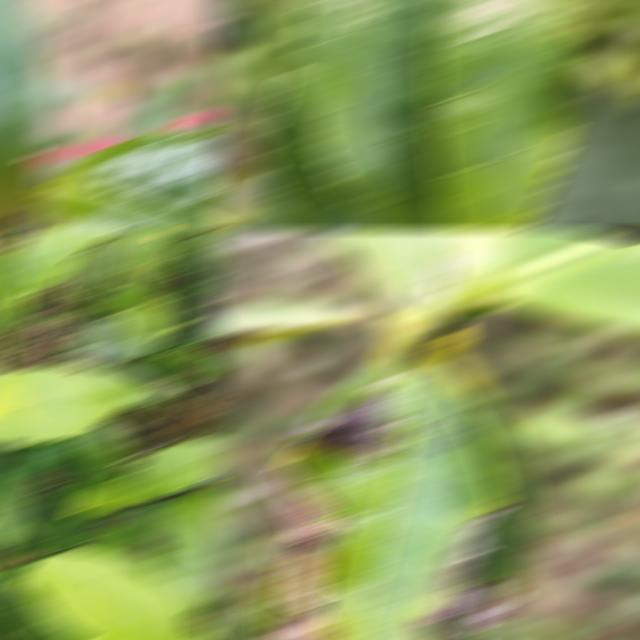Leaf: (275, 357, 507, 638), (294, 2, 578, 228), (258, 72, 385, 228), (456, 232, 640, 331), (41, 129, 223, 228), (9, 552, 213, 638), (524, 82, 640, 228), (0, 367, 136, 442), (0, 2, 48, 213), (322, 232, 447, 313), (153, 493, 223, 605), (8, 232, 117, 303), (120, 441, 223, 499), (211, 298, 373, 334), (54, 315, 148, 361), (122, 73, 189, 136), (83, 368, 186, 406), (115, 232, 167, 297), (7, 518, 94, 553), (122, 300, 173, 358), (144, 345, 212, 388), (113, 500, 182, 541), (79, 529, 152, 565), (75, 424, 130, 469), (0, 587, 47, 638), (68, 484, 135, 510), (22, 610, 83, 638), (74, 247, 115, 287), (0, 379, 34, 427), (177, 250, 219, 288), (73, 289, 144, 308), (39, 489, 75, 513), (165, 282, 205, 302), (3, 316, 23, 326)
